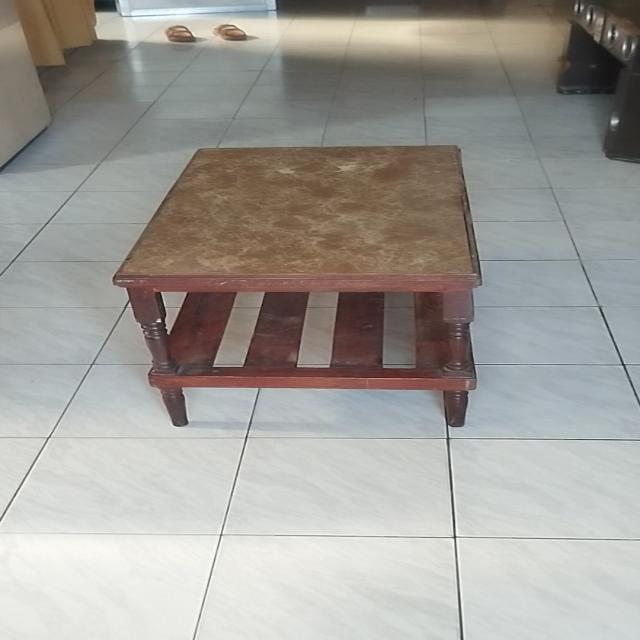table: (109, 142, 492, 434)
